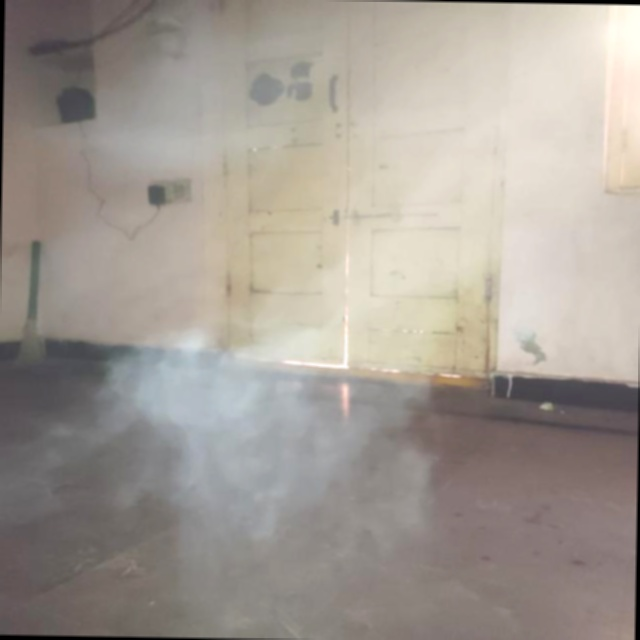smoke: (107, 279, 379, 515)
